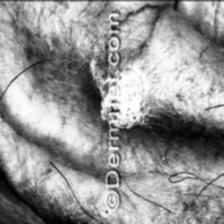Potentially Malignant Skin Tumors: (120, 54, 144, 131)
